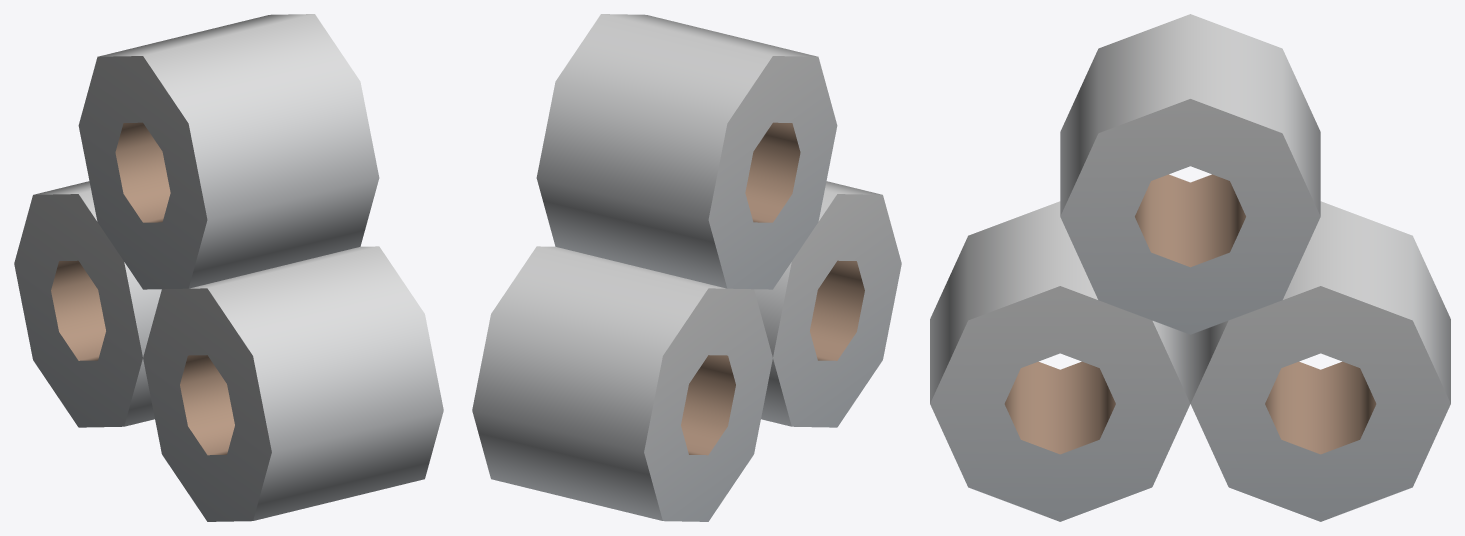
Rendered from toilet-paper-pyramid.glb.
3 renders of one model, left to right at view 1: azimuth 30°, elevation 25°; view 2: azimuth 150°, elevation 25°; view 3: azimuth 270°, elevation 25°, orthographic.
Parts seen in each view (by area): view 1: toilet-paper-pyramid; view 2: toilet-paper-pyramid; view 3: toilet-paper-pyramid.
Part boxes in pixels (x1,y1,x2,y2): toilet-paper-pyramid: [14, 14, 443, 521]; toilet-paper-pyramid: [472, 14, 901, 521]; toilet-paper-pyramid: [930, 14, 1450, 521].
Size of the model in its own units: 0.1106 by 0.2576 by 0.2873.
